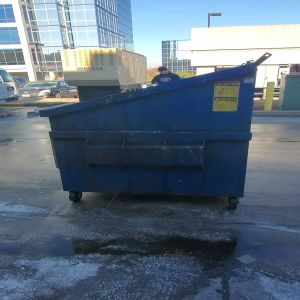Dumpster: (39, 85, 253, 212)
Person: (152, 65, 180, 83)
